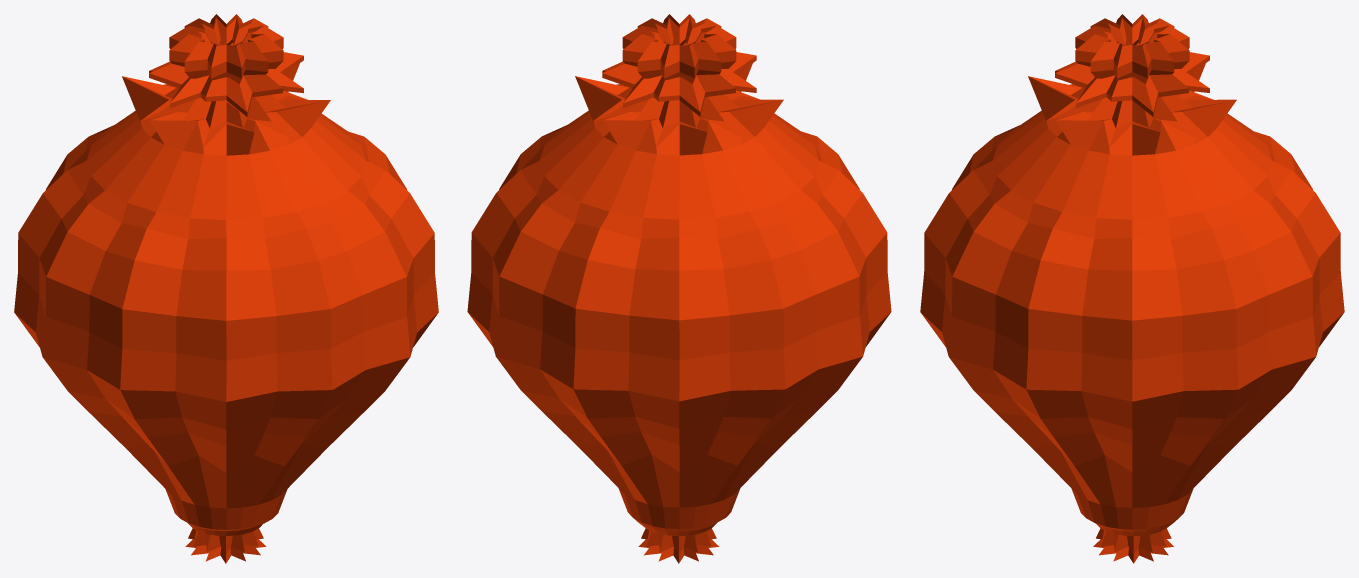
Rendered from heartanimation.fbx.
3 renders of one model, left to right at view 1: azimuth 30°, elevation 25°; view 2: azimuth 150°, elevation 25°; view 3: azimuth 270°, elevation 25°, orthographic.
Parts seen in each view (by area): view 1: heartanimation; view 2: heartanimation; view 3: heartanimation.
Part boxes in pixels (x1,y1,x2,y2): heartanimation: (14, 14, 438, 563); heartanimation: (467, 14, 891, 563); heartanimation: (920, 14, 1344, 563).
Bounding box in the file's own units: 445 × 598 × 445.
